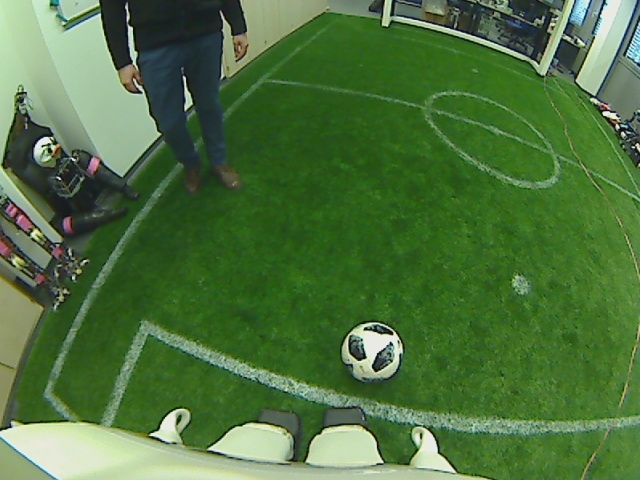ball: (340, 320, 404, 382)
